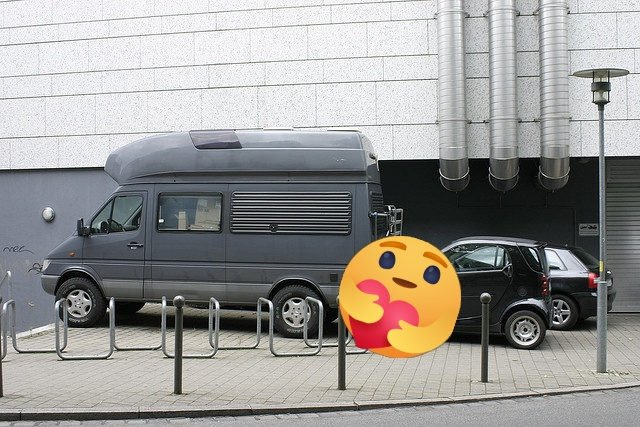care: (339, 236, 461, 358)
